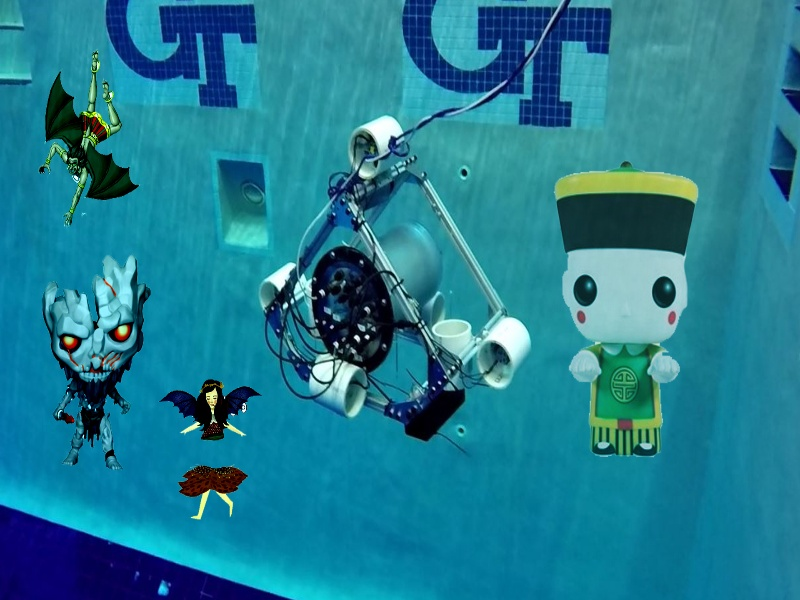Aswang: (155, 378, 268, 523)
Draugr: (34, 252, 151, 474)
Jiangshi: (550, 157, 703, 461)
Vetalas: (37, 48, 138, 231)
